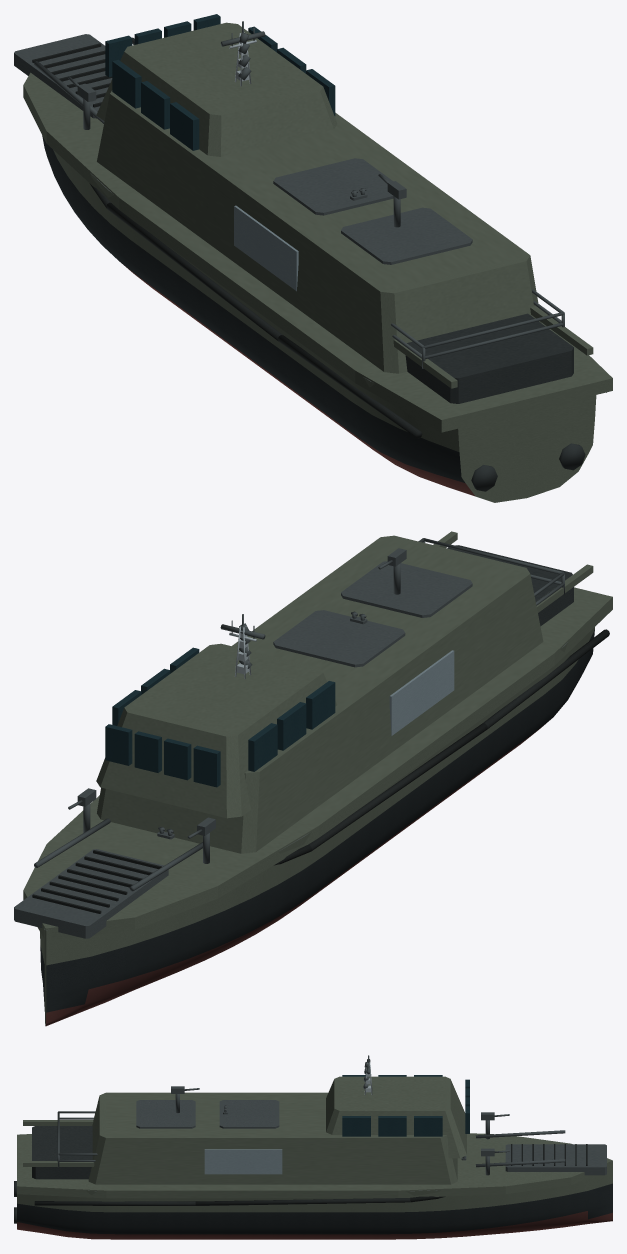
The model's file is wings_cb90_h.glb.
3 views of the same model, one above another, from view 1: azimuth 30°, elevation 25°; view 2: azimuth 150°, elevation 25°; view 3: azimuth 270°, elevation 25° (orthographic). The views are drawn at different scales.
Parts seen in each view (by area): view 1: static_hull_deck_superstructure, bow_ramp_pitch; view 2: static_hull_deck_superstructure, bow_ramp_pitch; view 3: static_hull_deck_superstructure, bow_ramp_pitch.
Boxes of the visible parts, left/top/right/bottom form: static_hull_deck_superstructure: left=23, top=14, right=612, bottom=502; bow_ramp_pitch: left=14, top=34, right=112, bottom=118; static_hull_deck_superstructure: left=23, top=531, right=612, bottom=1026; bow_ramp_pitch: left=14, top=849, right=168, bottom=938; static_hull_deck_superstructure: left=14, top=1055, right=612, bottom=1239; bow_ramp_pitch: left=505, top=1144, right=606, bottom=1175.
Size of the model in its own units: 4.01 by 5.02 by 15.98.
1 material, 1 textured.
